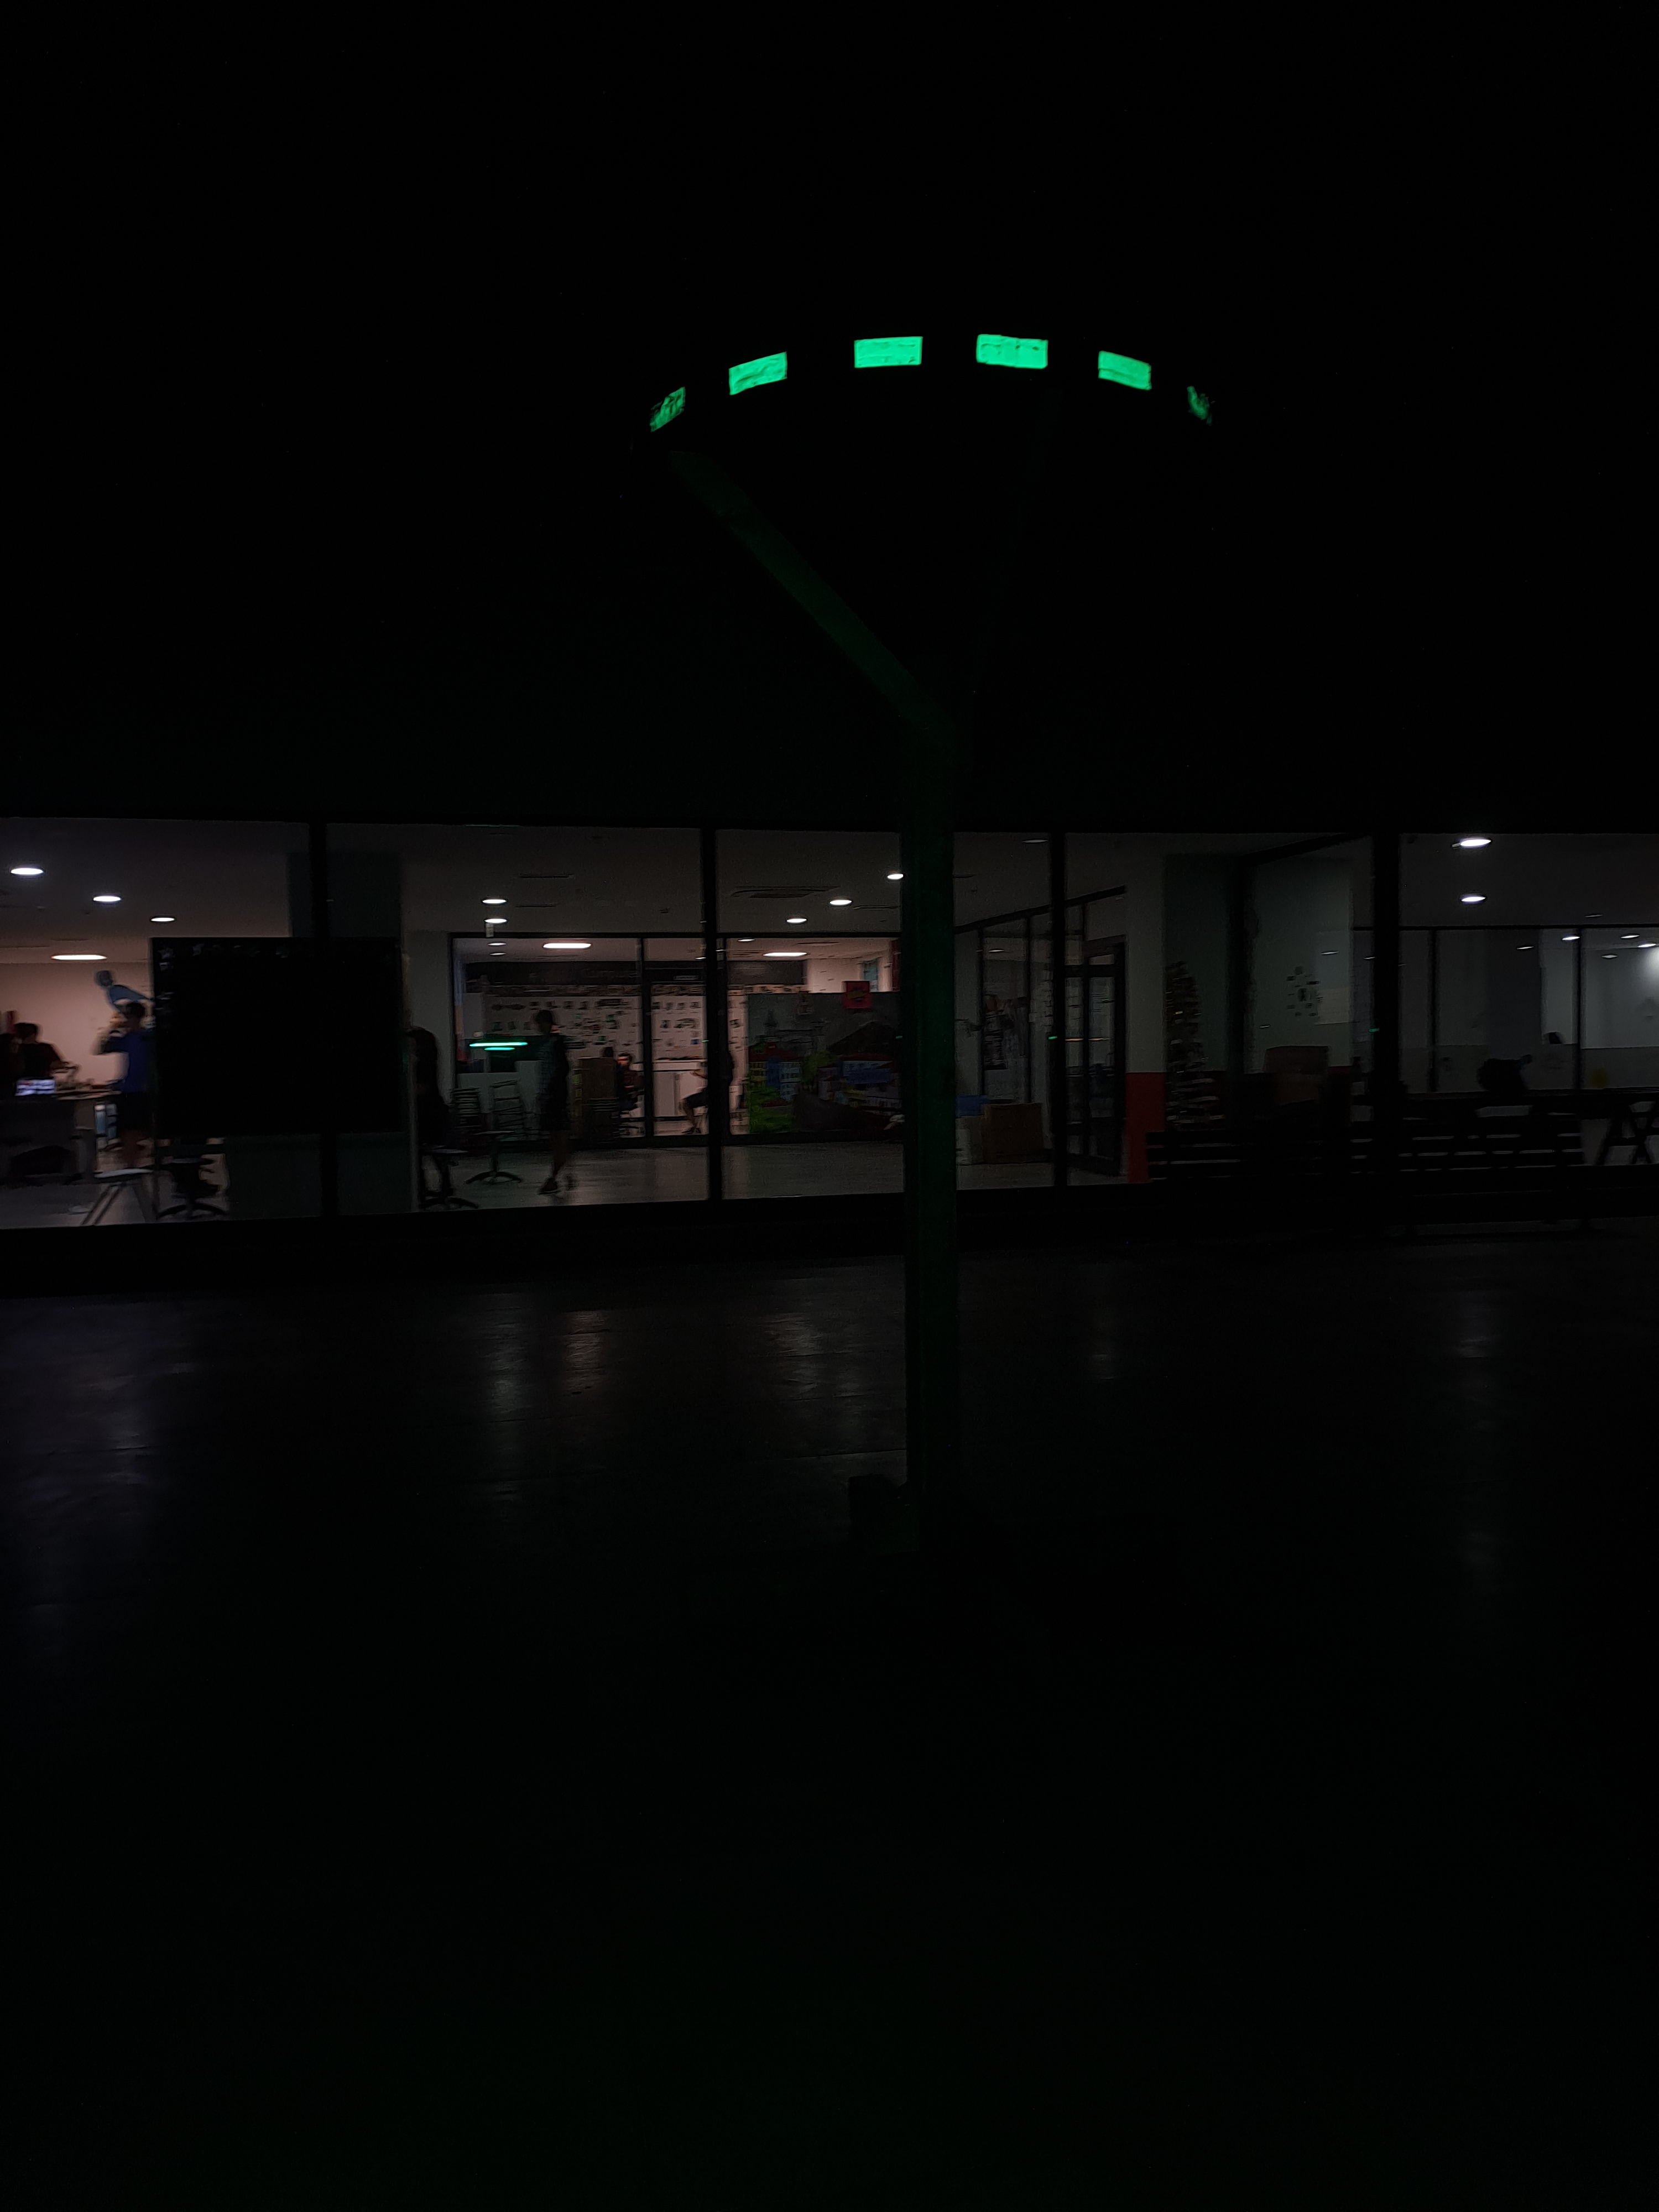hoop: (648, 329, 1215, 437)
